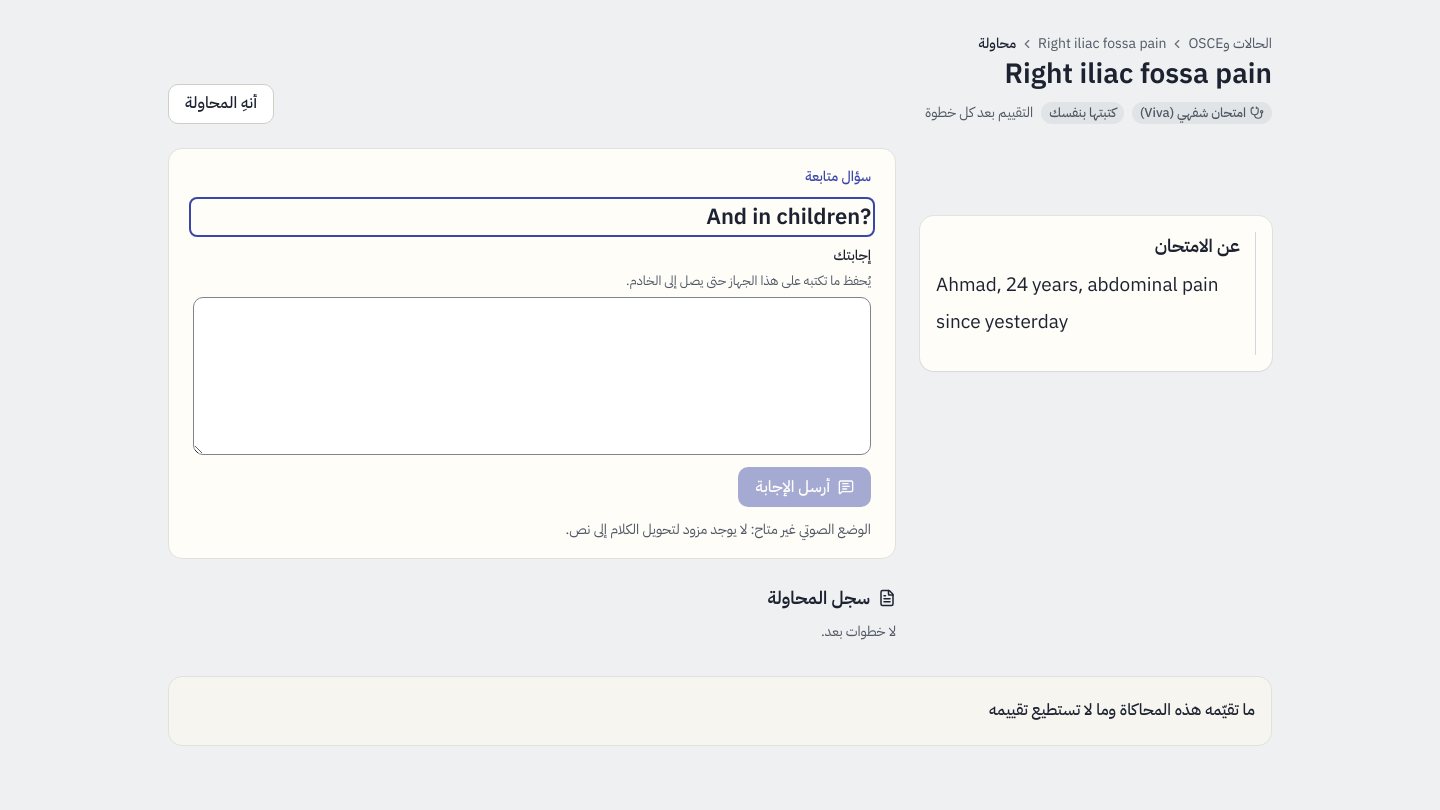
Test: case runner › viva: the answer carries the pending question
Expected: the text "سؤال متابعة" is shown, [805,166,871,187]
Type "Ultrasound" into the text box labelled "إجابتك".
click(532, 376); type("Ultrasound")  # box [193,297,871,455]
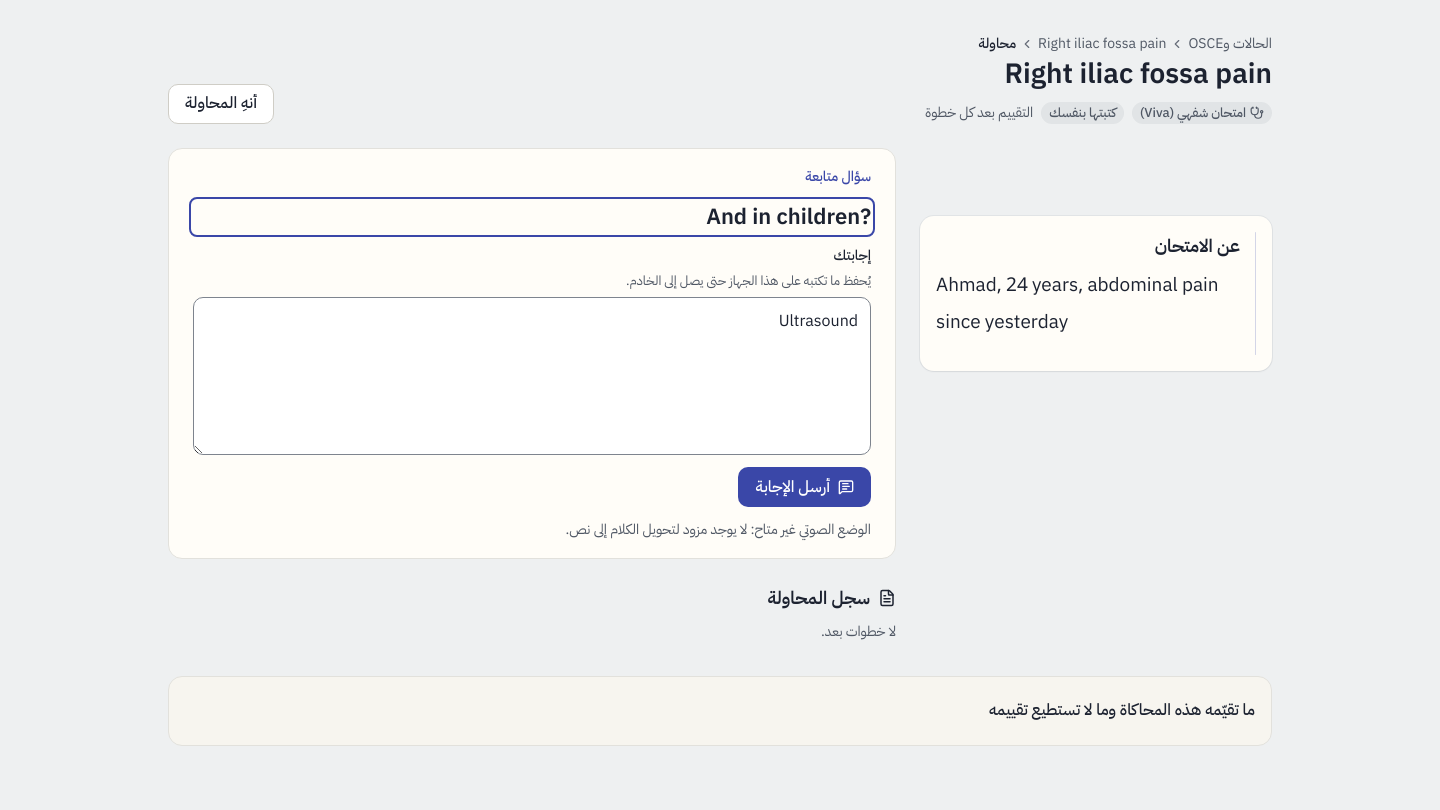
Click the button "أرسل الإجابة".
click(805, 487)  # box [738,467,871,507]
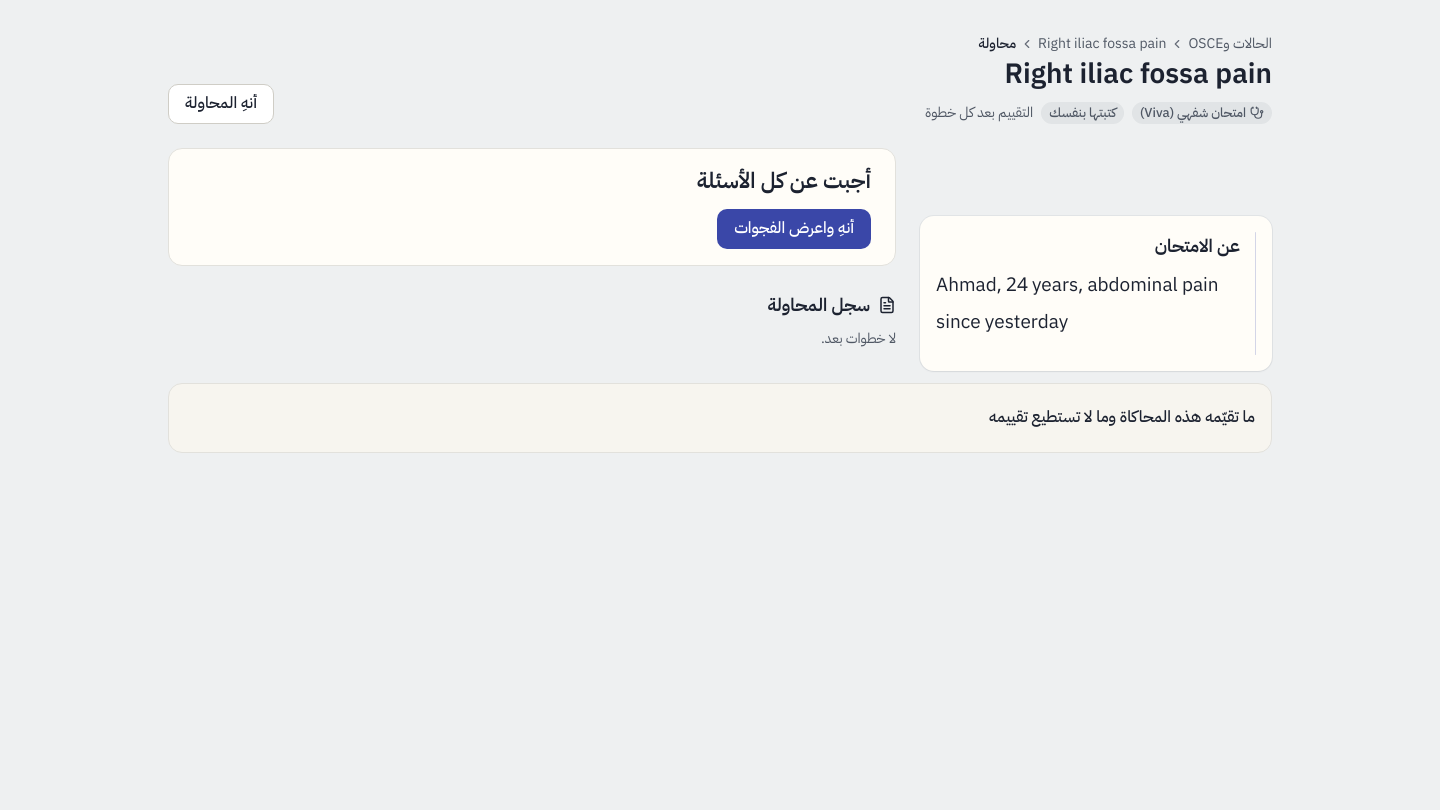
Expected: the heading "أجبت عن كل الأسئلة" is shown, [697,164,871,197]
